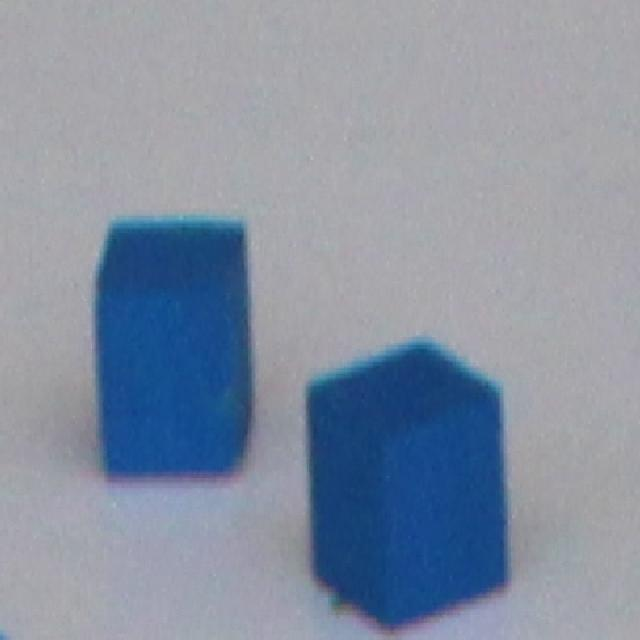bluecube: (307, 339, 507, 627), (96, 221, 257, 486)
